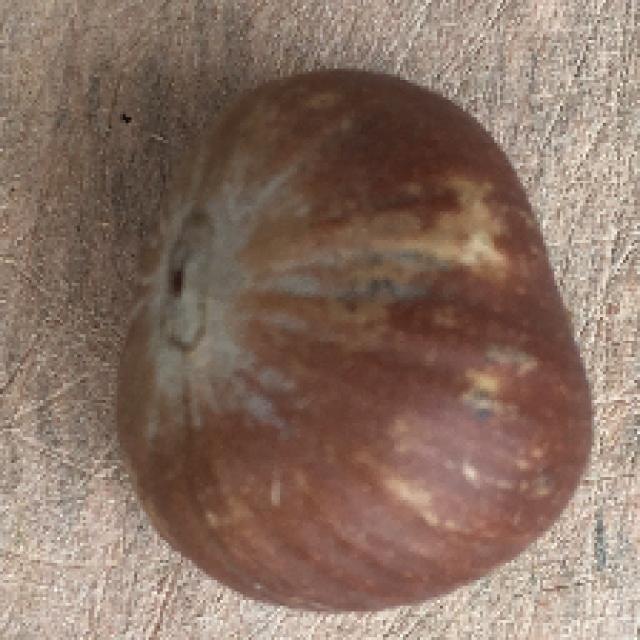qualityHazelnut: (123, 71, 595, 617)
